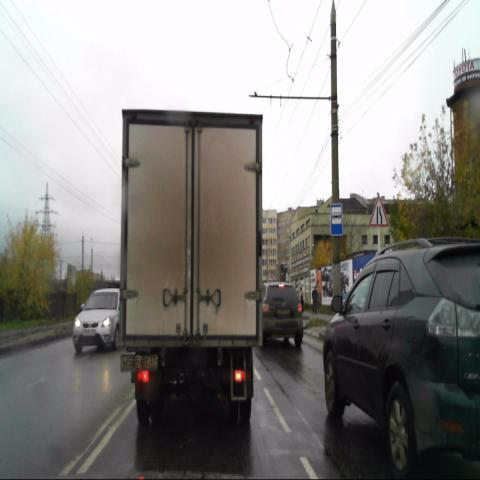1_20_2: (369, 194, 389, 227)
